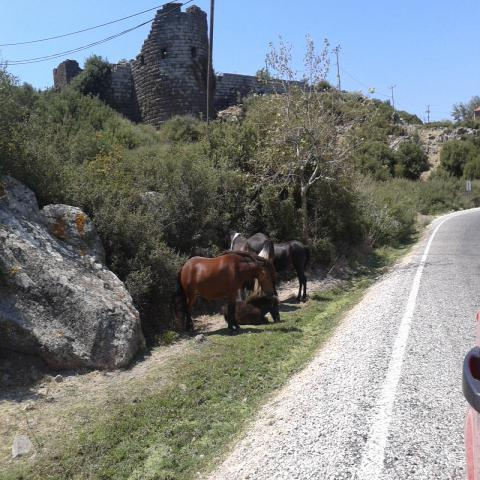car: (461, 306, 479, 479)
